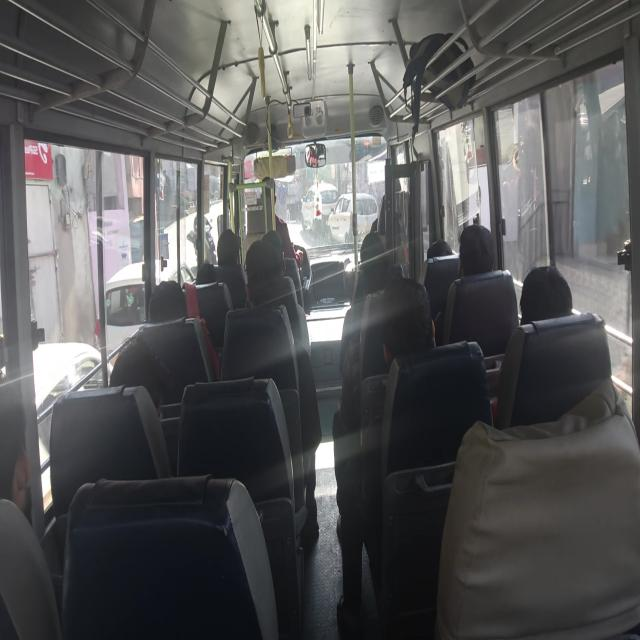person: (0, 376, 47, 554), (524, 269, 610, 361), (102, 338, 160, 409), (385, 294, 437, 367), (243, 242, 286, 314), (140, 286, 186, 352), (180, 252, 217, 299), (458, 222, 493, 270), (372, 258, 405, 307), (216, 224, 244, 278), (262, 202, 290, 254), (364, 229, 398, 268), (430, 233, 456, 266)
